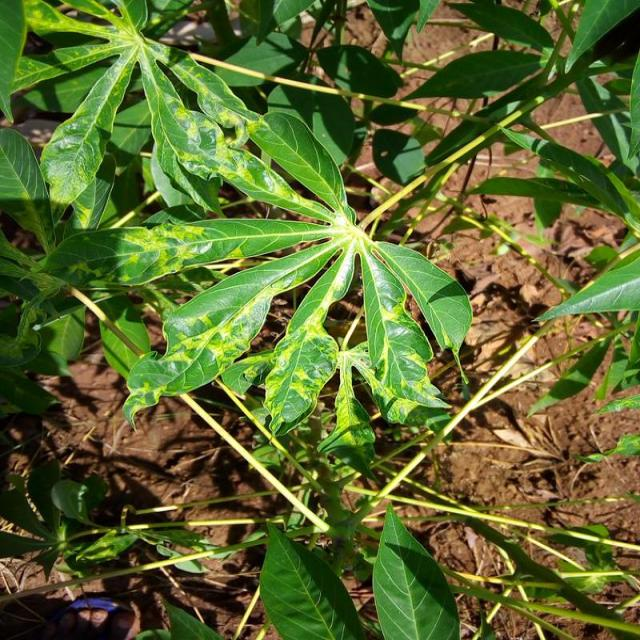cassava leaf: (121, 106, 472, 447), (258, 520, 364, 638), (371, 501, 460, 639)
